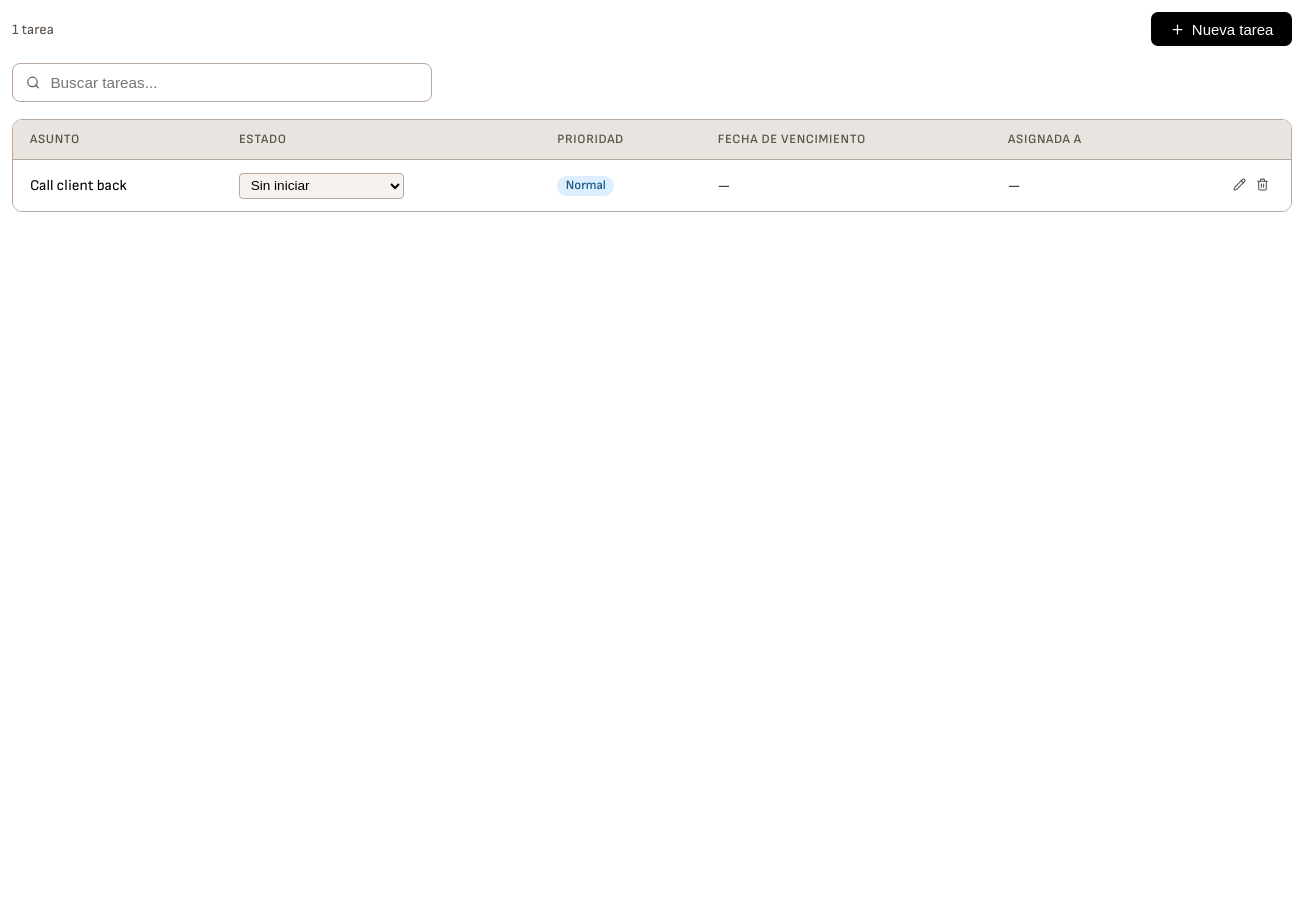
it: TasksTab — UI behaviour › opens edit form pre-filled
This screenshot has width=1304, height=912.
Expected: the text "Call client back" is shown, [30,177,127,194]
Click the button titled "Editar" at [1239, 186], box [1228,172,1251,199]
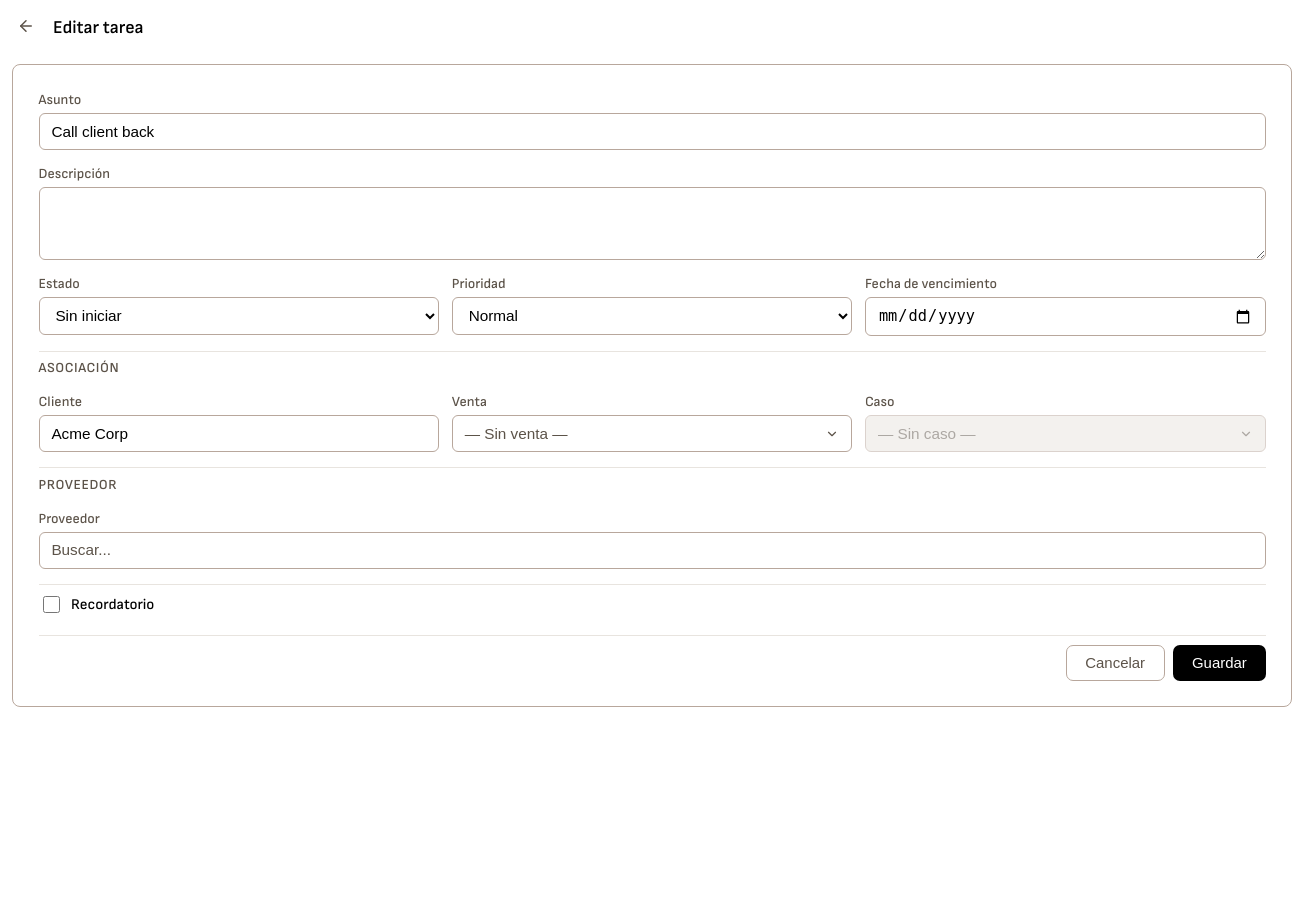
Now the field labelled "Asunto" holds "Call client back", box [38,113,1266,150]
